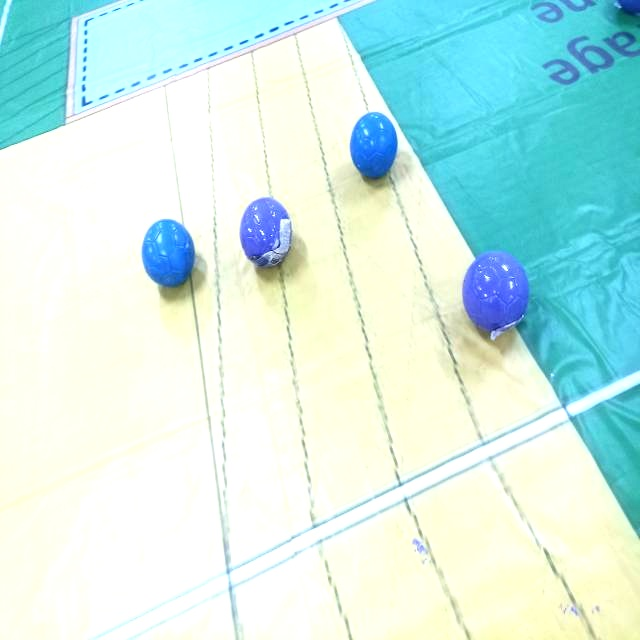blue_ball: (142, 215, 196, 288), (347, 109, 398, 181)
purple_ball: (463, 242, 532, 340), (237, 187, 293, 269)
